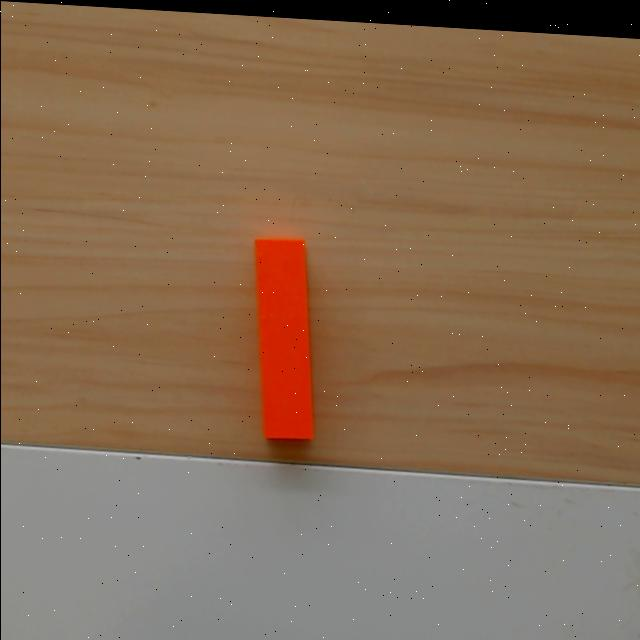Balok-Jingga-1002525: (252, 236, 314, 442)
